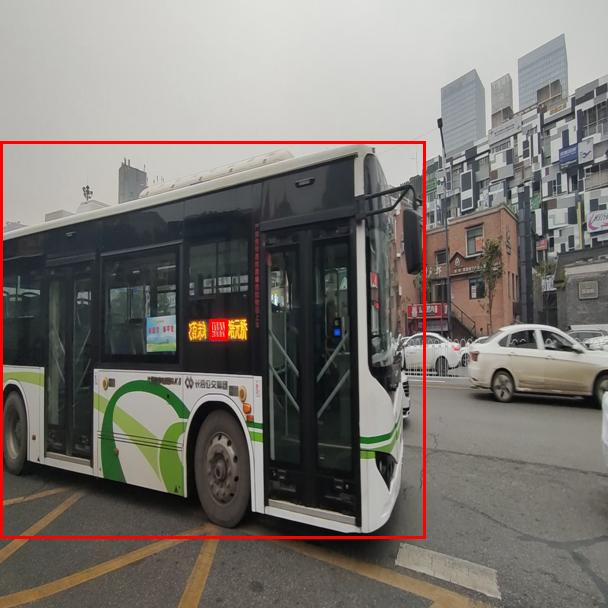bus: (0, 141, 425, 538)
screen: (209, 319, 227, 339)
